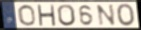6: (78, 4, 95, 26)
H: (37, 4, 57, 27)
N: (95, 4, 117, 27)
O: (56, 4, 77, 27), (116, 3, 136, 27), (17, 5, 37, 27)
